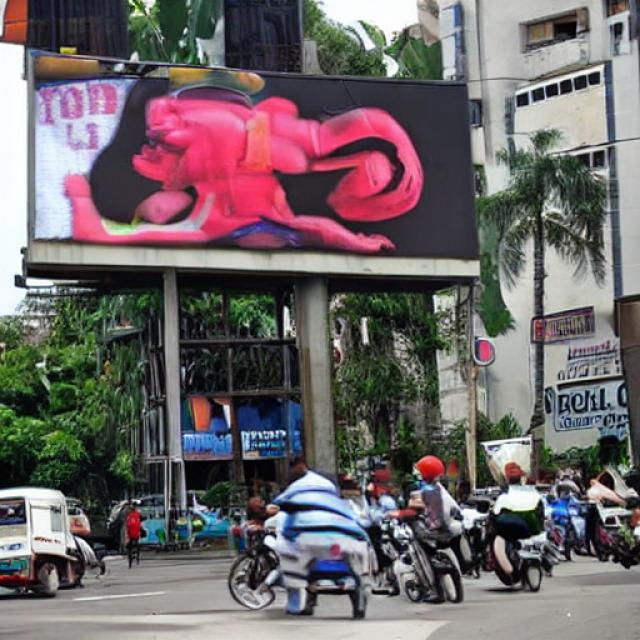Billboard: (24, 54, 475, 279)
